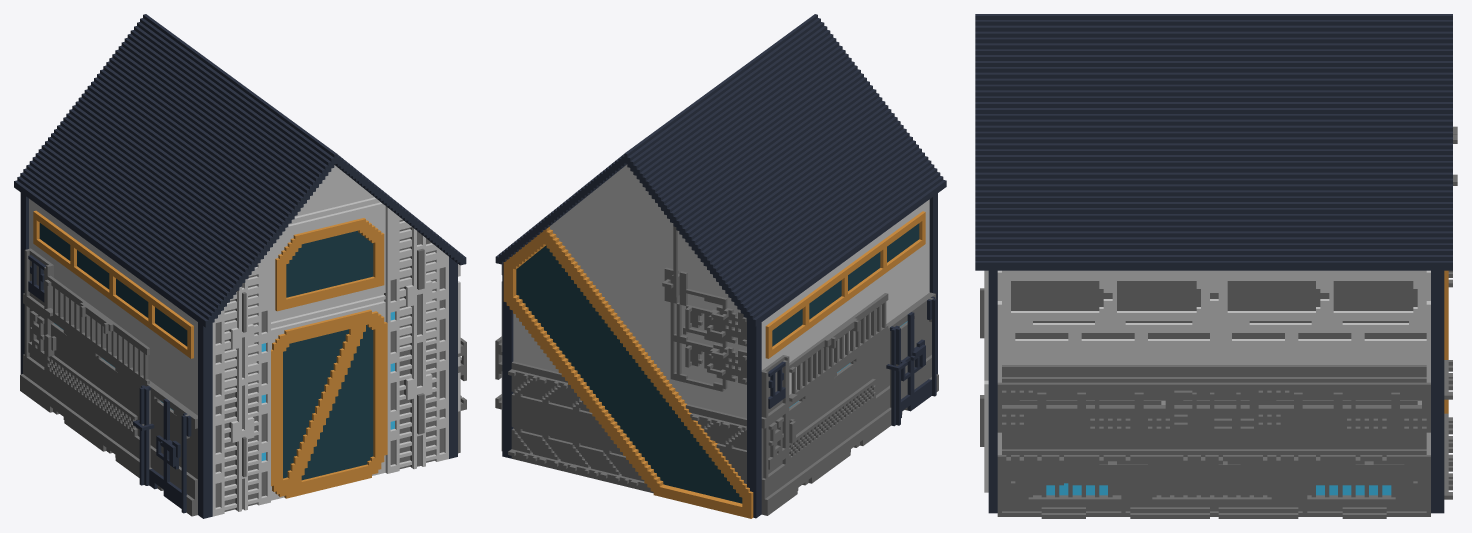
Rendered from energetic-dao-house.glb.
3 views of the same model, side by side, from view 1: azimuth 30°, elevation 25°; view 2: azimuth 150°, elevation 25°; view 3: azimuth 270°, elevation 25° (orthographic). The views are drawn at different scales.
Visible parts, largest first — view 1: house; view 2: house; view 3: house.
Part boxes in pixels (box(x1,y1,x2,y2)): house: box(14, 14, 466, 518); house: box(495, 14, 946, 518); house: box(975, 14, 1457, 518).
Size of the model in its own units: 9.3 by 10.5 by 10.9.
1 material, 1 textured.
